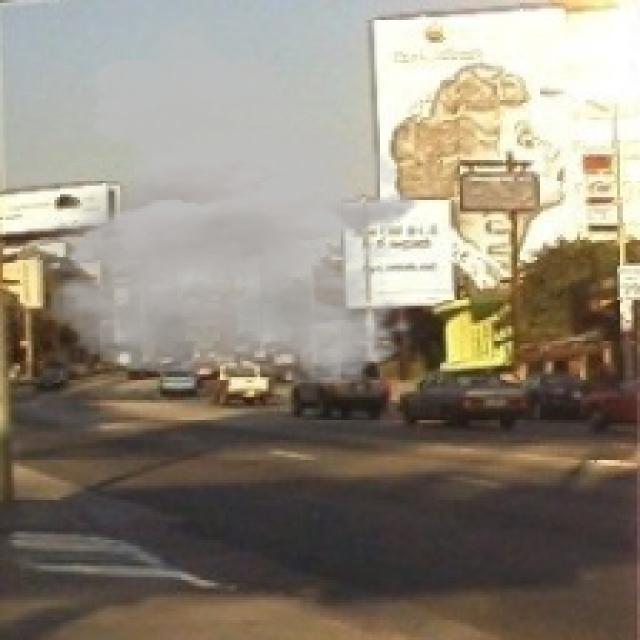smoke: (0, 11, 420, 386)
